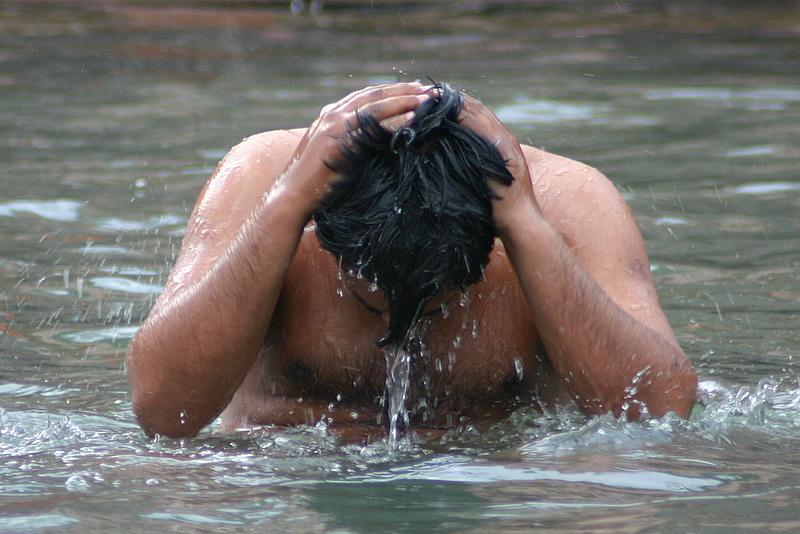human: (127, 77, 698, 450)
